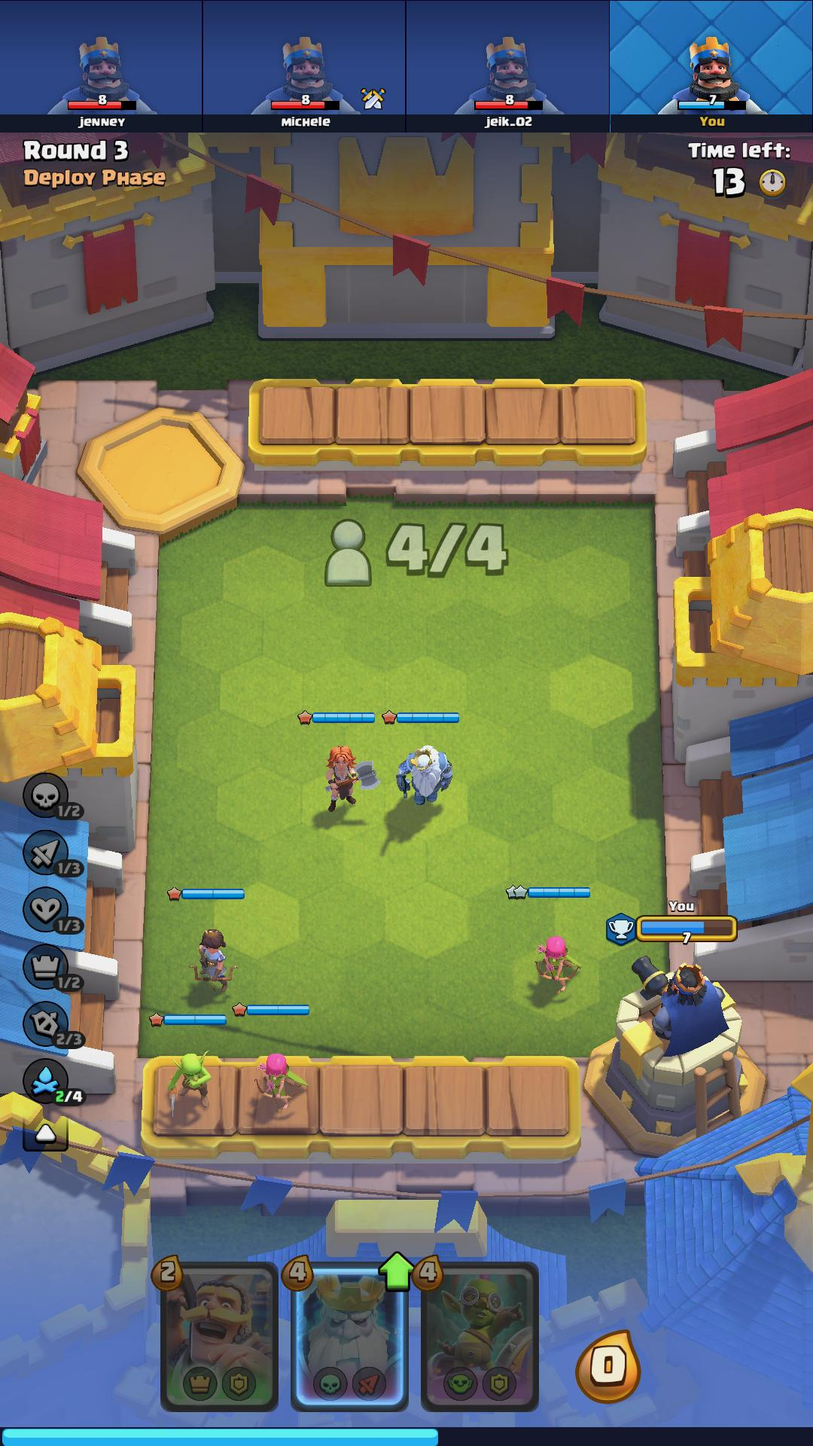archer: (241, 1036, 307, 1128), (526, 928, 582, 1002)
ghost: (391, 734, 458, 811)
goblin: (149, 1037, 220, 1122)
hand-ghost: (296, 1264, 407, 1408)
hand-knight: (161, 1263, 276, 1408)
hand-machine: (424, 1264, 536, 1408)
princess: (177, 918, 237, 995)
upgrade: (375, 1253, 415, 1295)
valkyrie: (315, 741, 376, 817)
